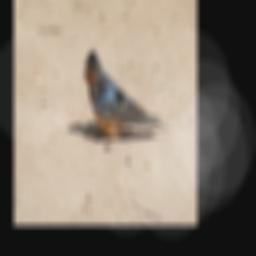Swallow: (82, 49, 172, 137)
